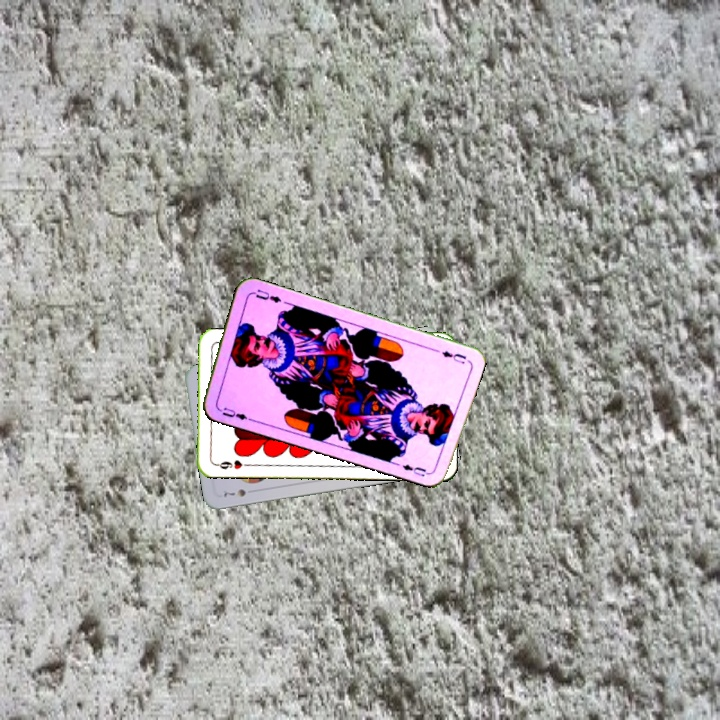EU: (214, 401, 254, 423), (438, 347, 469, 366)
H9: (211, 456, 252, 472)
S7: (219, 485, 248, 500)
